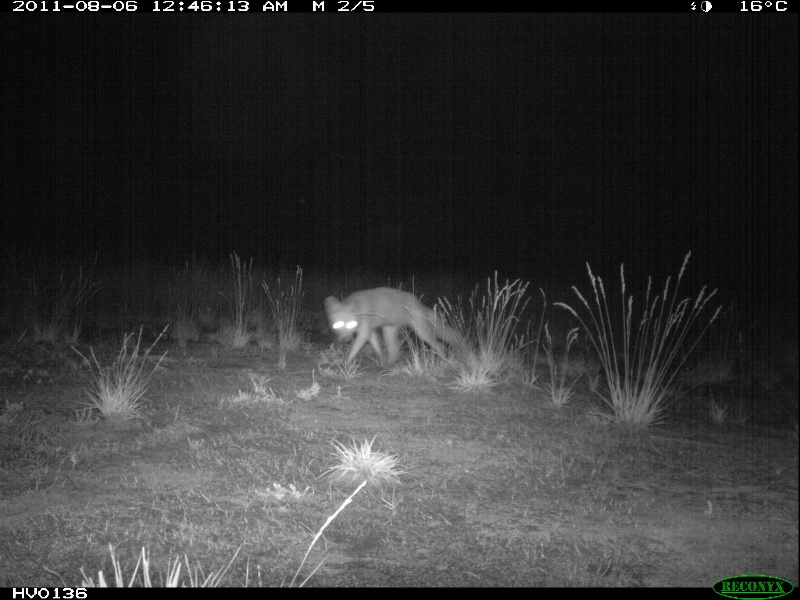fox: (316, 282, 474, 372)
